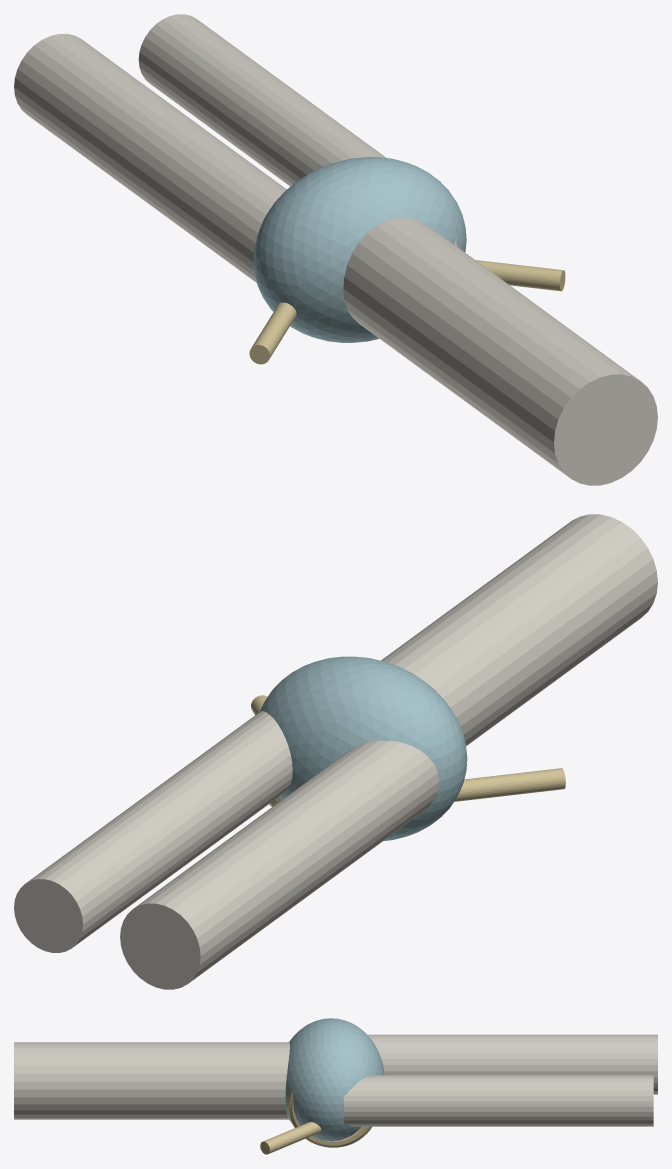
Rendered from elbow-high.glb.
3 views of the same model, one above another, from view 1: azimuth 30°, elevation 25°; view 2: azimuth 150°, elevation 25°; view 3: azimuth 270°, elevation 25° (orthographic). The views are drawn at different scales.
Parts seen in each view (by area): view 1: humerus_distal, ulna, elbow_joint_surface, radius, radial_collateral_ligament_proxy, ulnar_collateral_ligament_proxy; view 2: ulna, humerus_distal, radius, elbow_joint_surface, ulnar_collateral_ligament_proxy; view 3: humerus_distal, radius, ulna, elbow_joint_surface, radial_collateral_ligament_proxy, annular_ligament_proxy.
Boxes of the visible parts, x1,y1,x2,y2 form: humerus_distal: (343,218,657,485); ulna: (14,33,286,282); elbow_joint_surface: (253,157,466,342); radius: (138,14,386,186); radial_collateral_ligament_proxy: (476,260,565,291); ulnar_collateral_ligament_proxy: (249,302,296,364); ulna: (120,740,439,989); humerus_distal: (381,514,657,745); radius: (14,711,292,952); elbow_joint_surface: (260,656,467,840); ulnar_collateral_ligament_proxy: (454,768,565,801); humerus_distal: (14,1042,289,1119); radius: (344,1075,653,1126); ulna: (367,1034,657,1094); elbow_joint_surface: (285,1018,384,1141); radial_collateral_ligament_proxy: (260,1122,321,1154); annular_ligament_proxy: (287,1078,372,1147).
Bounding box in the file's own units: 1.09 × 0.56 × 3.
